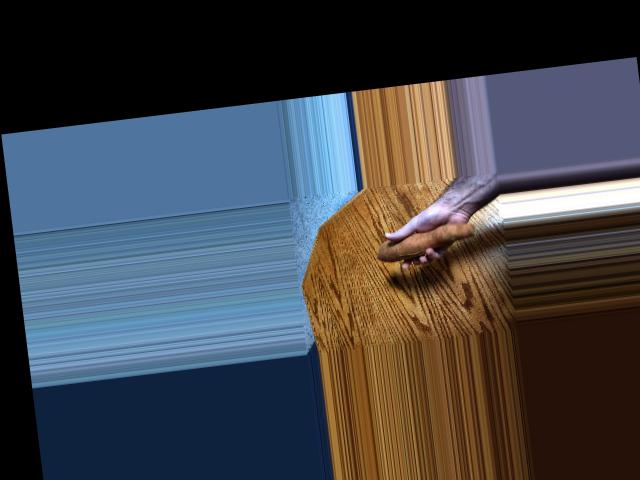sweet_potato: (371, 210, 487, 265)
